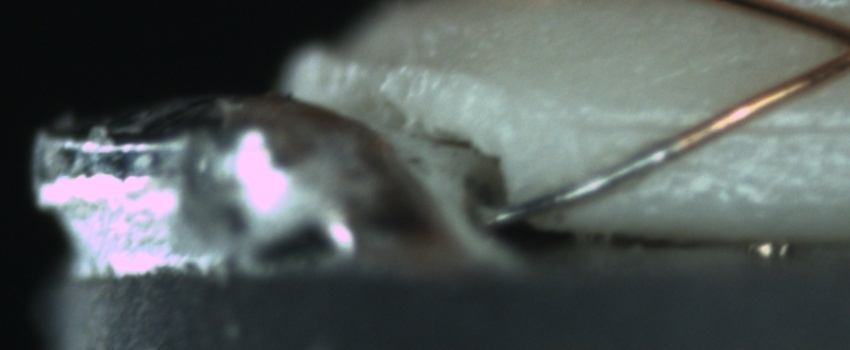DL: (579, 98, 850, 155)
TS: (486, 140, 678, 232)
TTCW: (479, 116, 717, 227)
